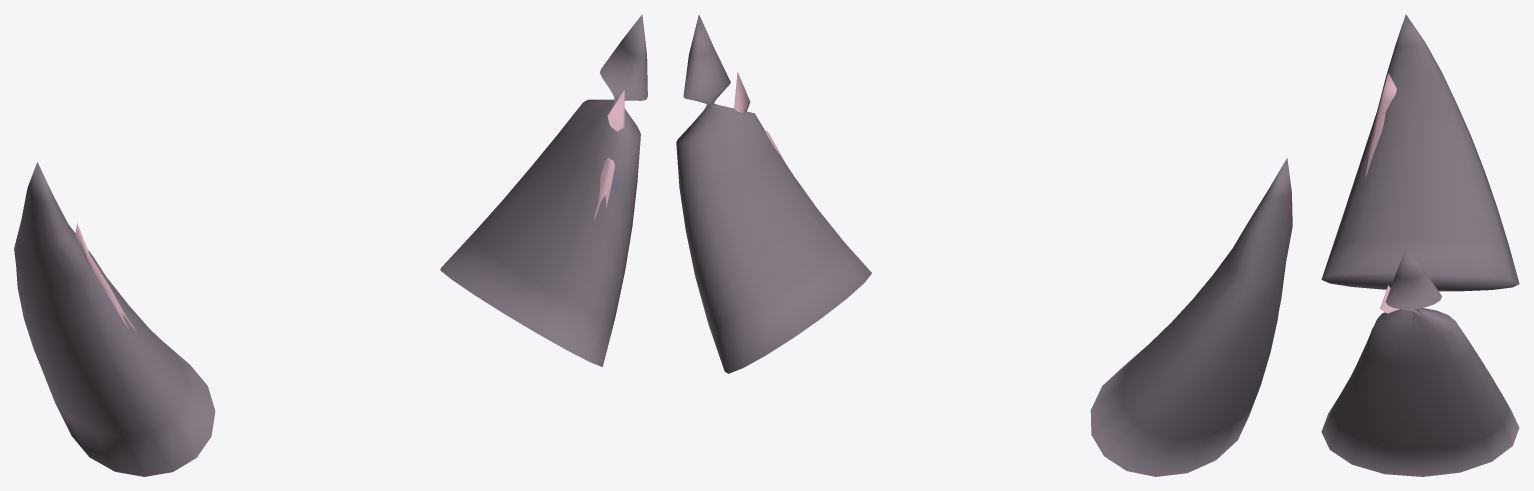
File: acc_cat_ears.glb
The picture shows the model from 3 angles, left to right: view 1: azimuth 30°, elevation 25°; view 2: azimuth 150°, elevation 25°; view 3: azimuth 270°, elevation 25°; orthographic projection. The views are drawn at different scales.
Visible parts, largest first — view 1: acc_cat_ears; view 2: acc_cat_ears; view 3: acc_cat_ears.
Part boxes in pixels (x1,y1,x2,y2): acc_cat_ears: (14, 14, 647, 476); acc_cat_ears: (676, 14, 1292, 476); acc_cat_ears: (1321, 14, 1519, 476).
Size of the model in its own units: 0.1921 by 0.0957 by 0.0679.
